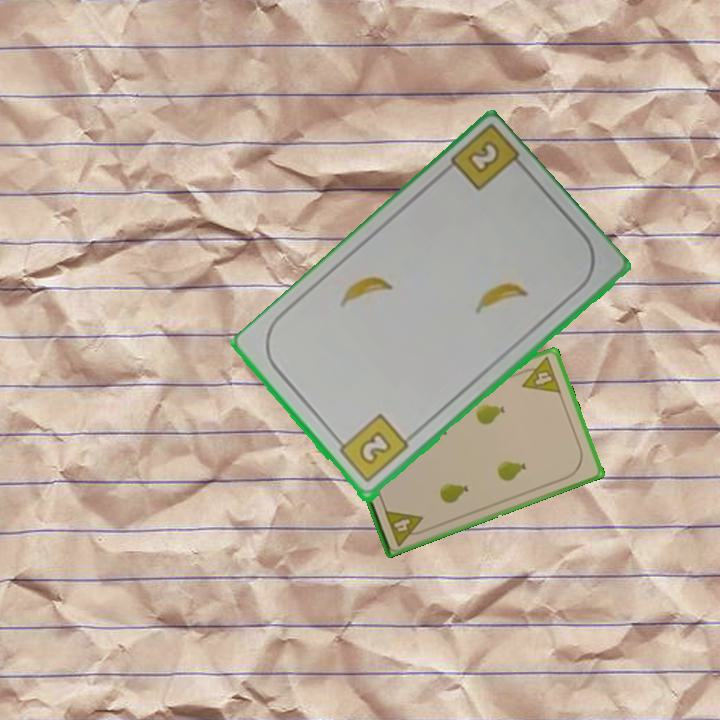2b: (332, 411, 412, 486), (463, 137, 503, 177)
4p: (514, 353, 564, 396), (381, 506, 429, 549)
